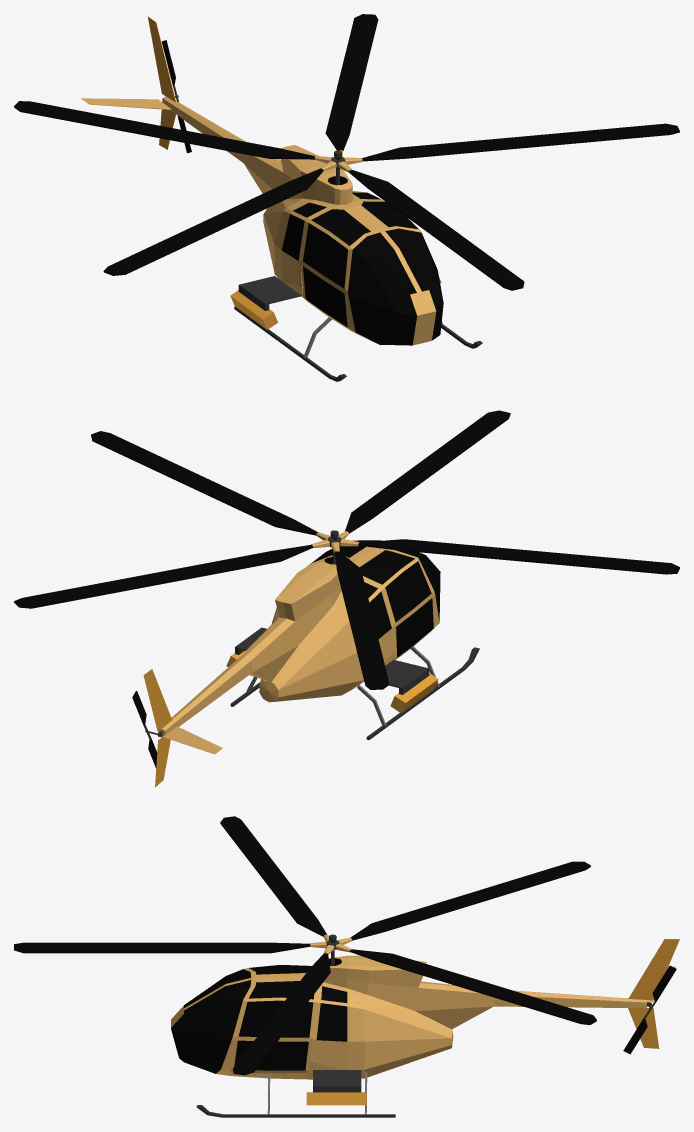
3 renders of one model, top to bottom at view 1: azimuth 30°, elevation 25°; view 2: azimuth 150°, elevation 25°; view 3: azimuth 270°, elevation 25°, orthographic. The views are drawn at different scales.
Visible parts, largest first — view 1: Circle.006, Plane.020, Plane.022, Plane.023, Plane.021; view 2: Plane.020, Circle.006, Plane.023, Plane.021, Plane.022; view 3: Plane.020, Circle.006, Plane.022, Plane.024, Plane.021, Circle.007.
Boxes of the visible parts, x1,y1,x2,y2 form: Circle.006: (14, 14, 679, 290); Plane.020: (81, 16, 482, 381); Plane.022: (348, 228, 443, 345); Plane.023: (301, 221, 350, 330); Plane.021: (281, 192, 418, 260); Plane.020: (143, 542, 479, 787); Circle.006: (14, 410, 679, 689); Plane.023: (383, 559, 435, 659); Plane.021: (311, 546, 414, 639); Plane.022: (353, 540, 440, 621); Plane.020: (171, 939, 679, 1117); Circle.006: (14, 816, 596, 1075); Plane.022: (171, 969, 251, 1073); Plane.024: (229, 999, 316, 1073); Plane.021: (249, 965, 347, 1041); Circle.007: (623, 965, 676, 1054).
Size of the model in its own units: 879 by 240 by 960.
